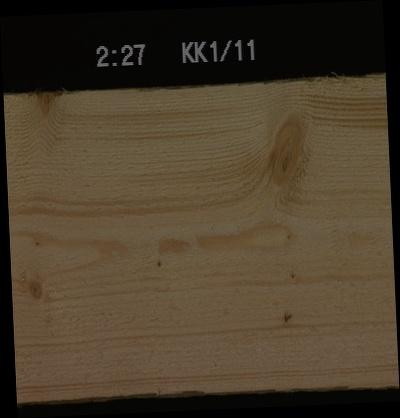small_knot: (274, 223, 299, 244), (274, 305, 299, 326), (283, 266, 298, 287), (29, 233, 45, 248), (153, 255, 168, 270)
sound_knot: (20, 268, 50, 303)
